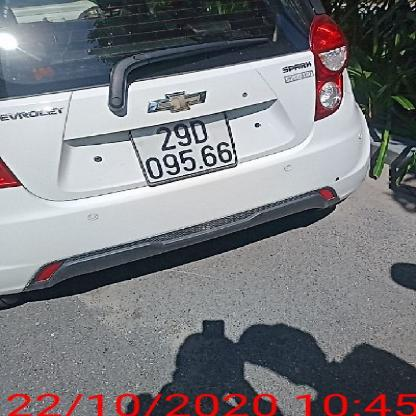biensoxe: (127, 110, 237, 186)
